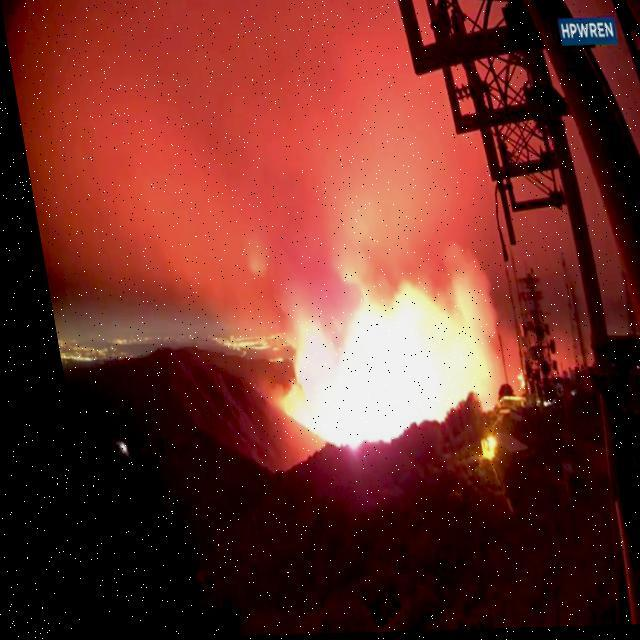Fire: (248, 269, 506, 456), (502, 372, 512, 392)
